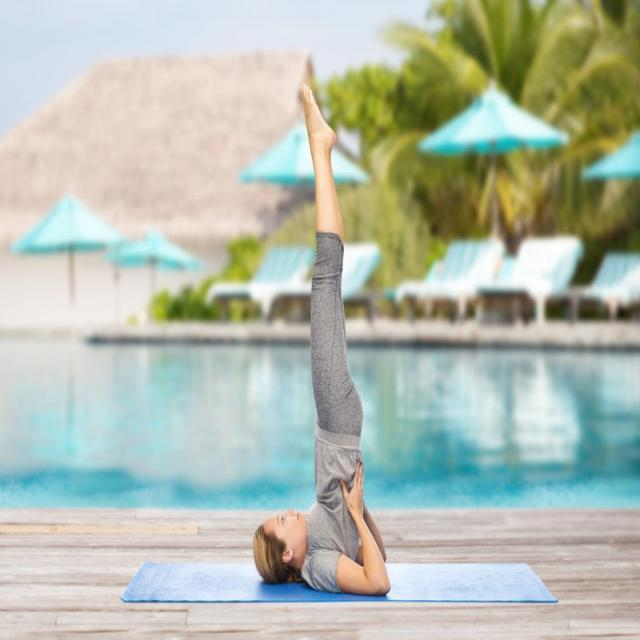yoga-pose downward: (244, 78, 394, 602)
